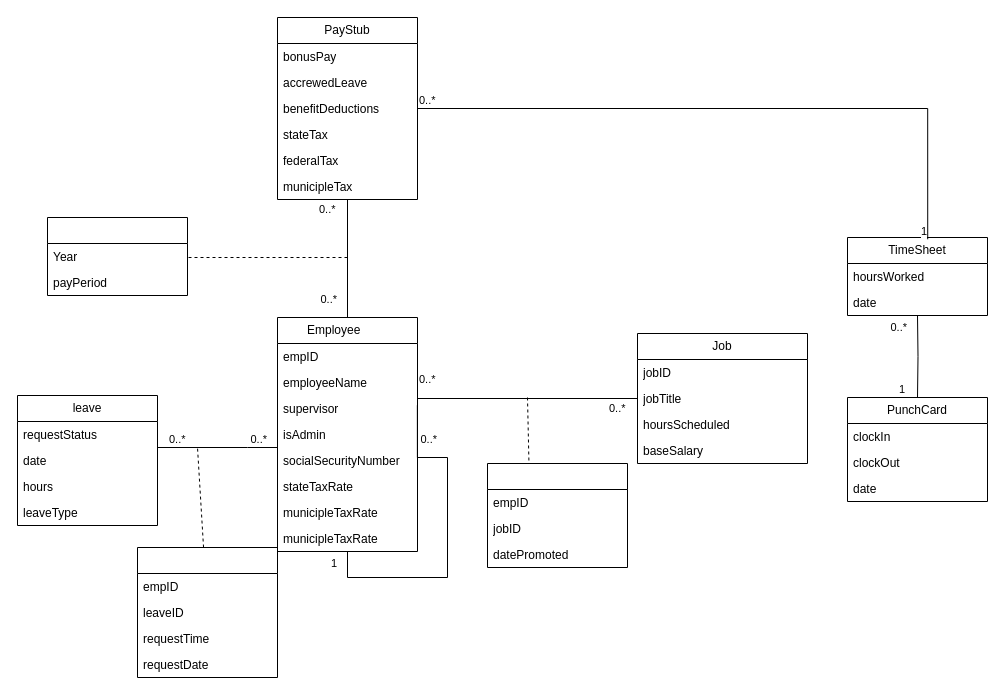
Some shapes in this 1005 by 698 pixel diagram are drawn without their labels. The shapes that lost their labels are listed below. From the top down, each one's box as (x1, y1, x2, y2) in pixels, then its label:
(46, 216, 188, 296): PayStubAssocation
(486, 462, 628, 568): Promotion
(136, 546, 278, 678): LeaveRequest
